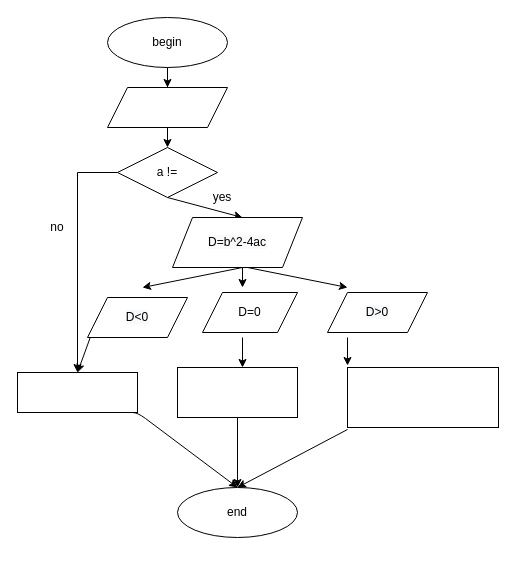
The diagram is 516 pixels wide and 563 high, and some of its shapes have lost their labels. Here are the shapes that lost their labels. From the top down, the box of each, then its label:
(106, 86, 228, 128): input a,b,c
(16, 372, 138, 412): phương trình vô nghiệm
(176, 366, 298, 418): phương trình nghiệm kép x=-b/2a
(346, 366, 498, 428): có 2 nghiệm x1={-b+ Sqrt(D)} / 2*a x2=-{-b- Sqrt(D)} / (2*a)
